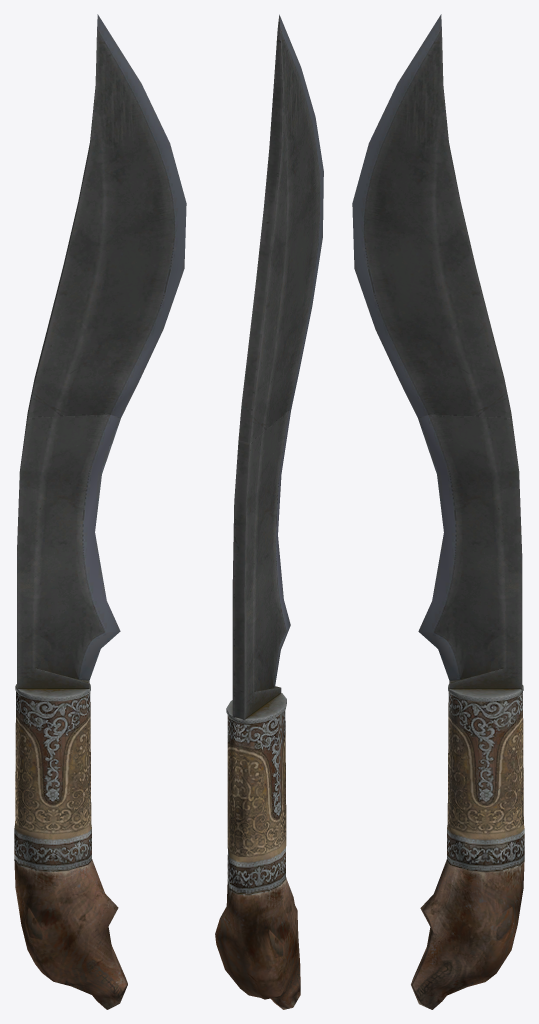
Rendered from Melee_Prop_polySurface070_Main_(000802).glb.
The picture shows the model from 3 angles, left to right: view 1: azimuth 90°, elevation 25°; view 2: azimuth 150°, elevation 25°; view 3: azimuth 270°, elevation 25°; orthographic projection.
Parts seen in each view (by area): view 1: polySurface070; view 2: polySurface070; view 3: polySurface070.
Part boxes in pixels (left/top/right/bottom): polySurface070: left=14, top=14, right=186, bottom=1009; polySurface070: left=215, top=14, right=323, bottom=1009; polySurface070: left=352, top=14, right=524, bottom=1009.
Size of the model in its own units: 0.051 by 0.7637 by 0.1197.
1 material, 1 textured.
